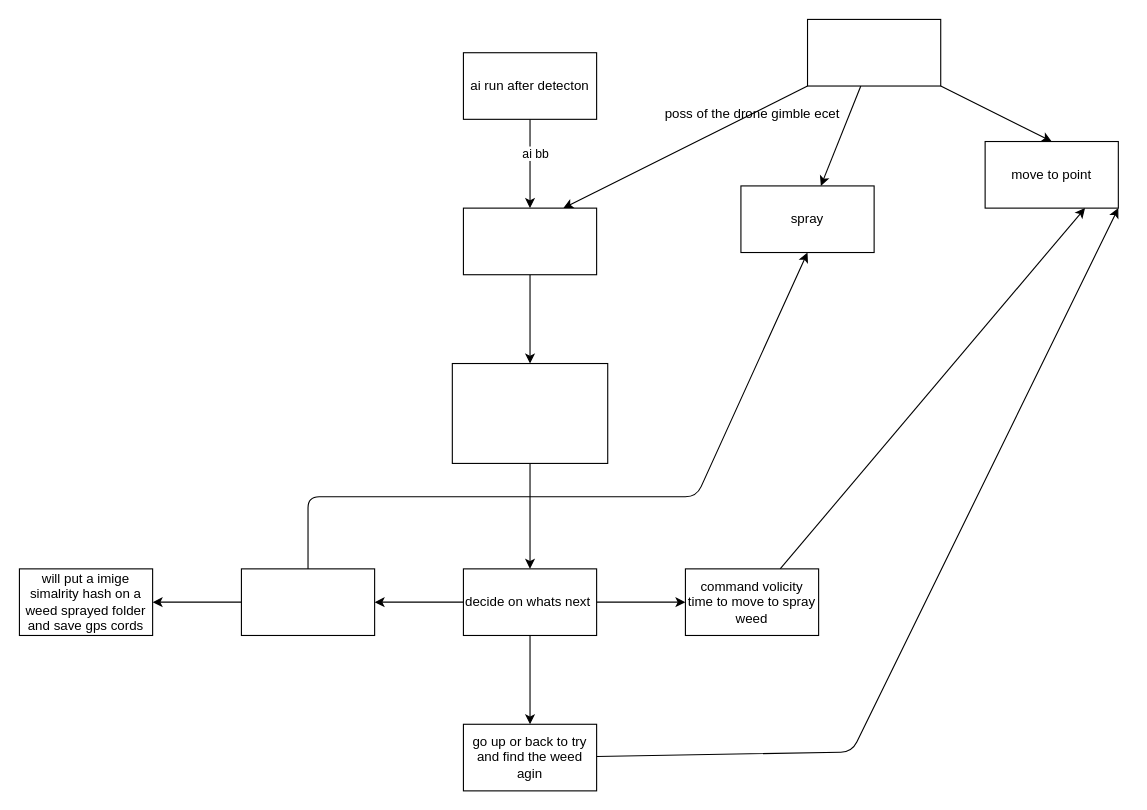
Some shapes in this 1147 by 810 pixel diagram are drawn without their labels. Each missing label, with the centre of its shape:
"do possiton and visual simality maching (if got enought compute)" belongs at point (529, 412).
"drone class that does motion" belongs at point (873, 52).
"estimait weed poss" belongs at point (529, 241).
"spray the weed" belongs at point (307, 601).
